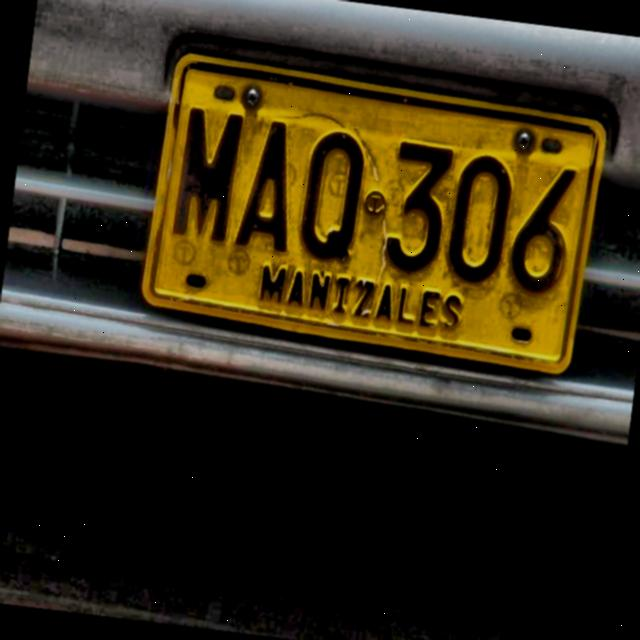0: (437, 148, 522, 295)
3: (372, 137, 460, 280)
6: (500, 156, 583, 305)
A: (231, 114, 304, 260)
M: (165, 103, 251, 247)
Q: (292, 126, 371, 270)
